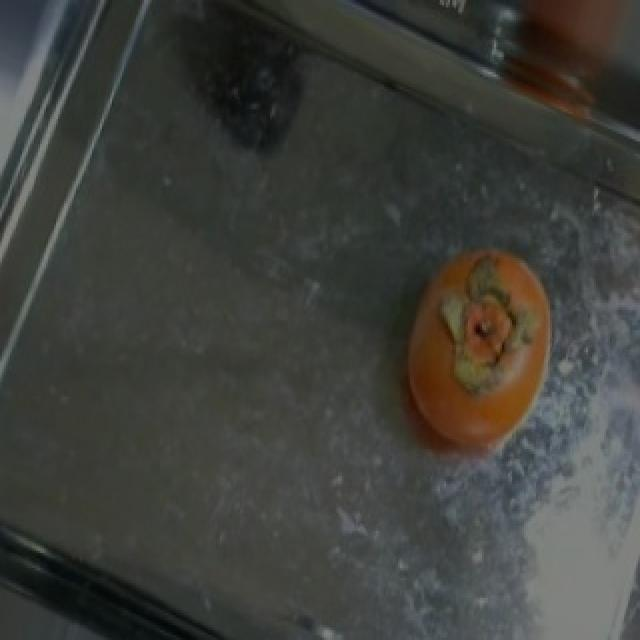Fruit: (378, 228, 572, 476)
